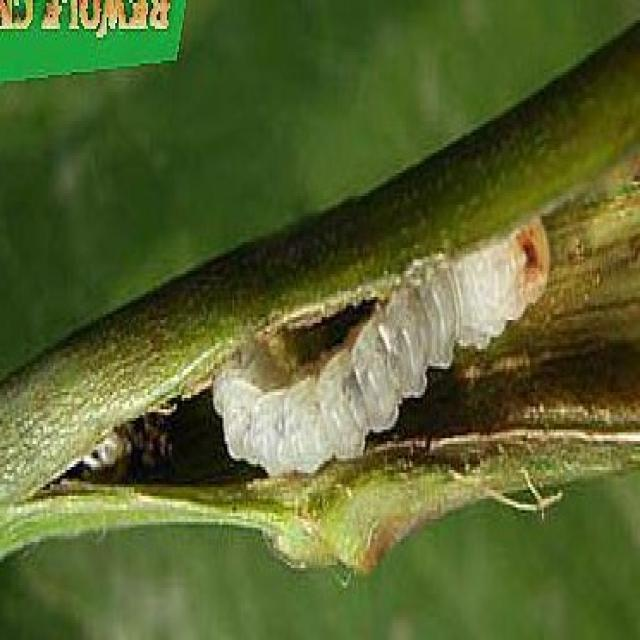peach borer: (189, 223, 560, 488)
